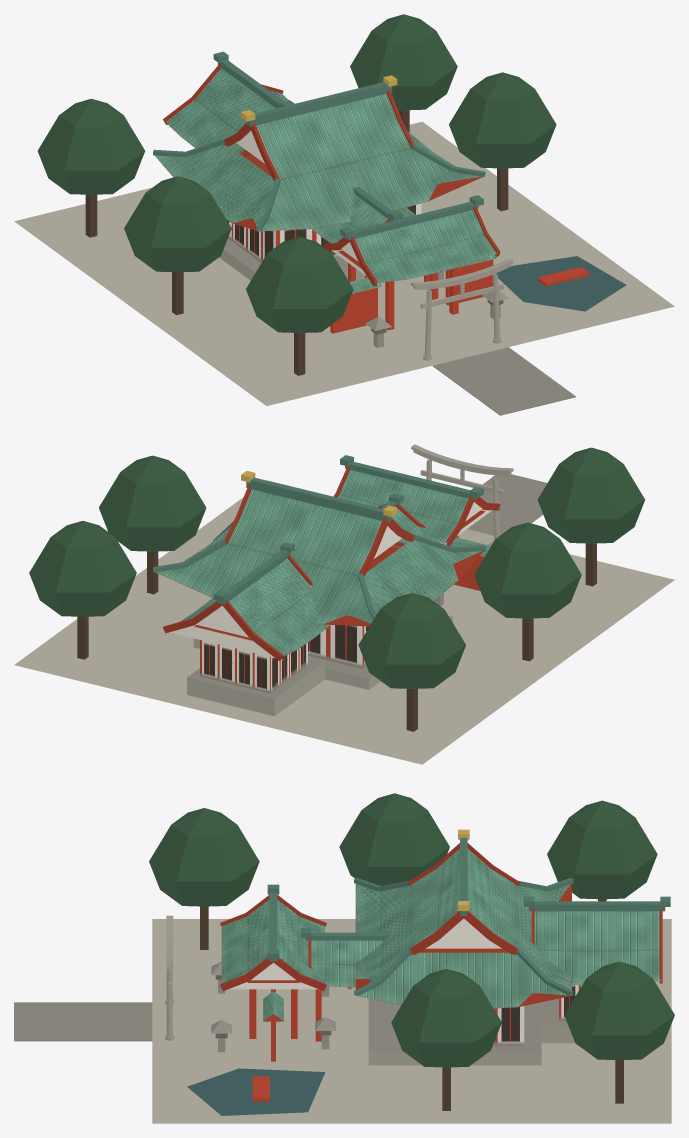
File: atago_shrine.glb
3 renders of one model, top to bottom at view 1: azimuth 30°, elevation 25°; view 2: azimuth 150°, elevation 25°; view 3: azimuth 270°, elevation 25°, orthographic. The views are drawn at different scales.
Parts seen in each view (by area): view 1: atago_shrine; view 2: atago_shrine; view 3: atago_shrine.
Part boxes in pixels (box(x1,y1,x2,y2)): atago_shrine: box(14, 14, 674, 415); atago_shrine: box(14, 444, 674, 764); atago_shrine: box(14, 793, 674, 1123).
Size of the model in its own units: 29.55 by 9.87 by 38.2.
Materials: 2 (2 with a texture image).
